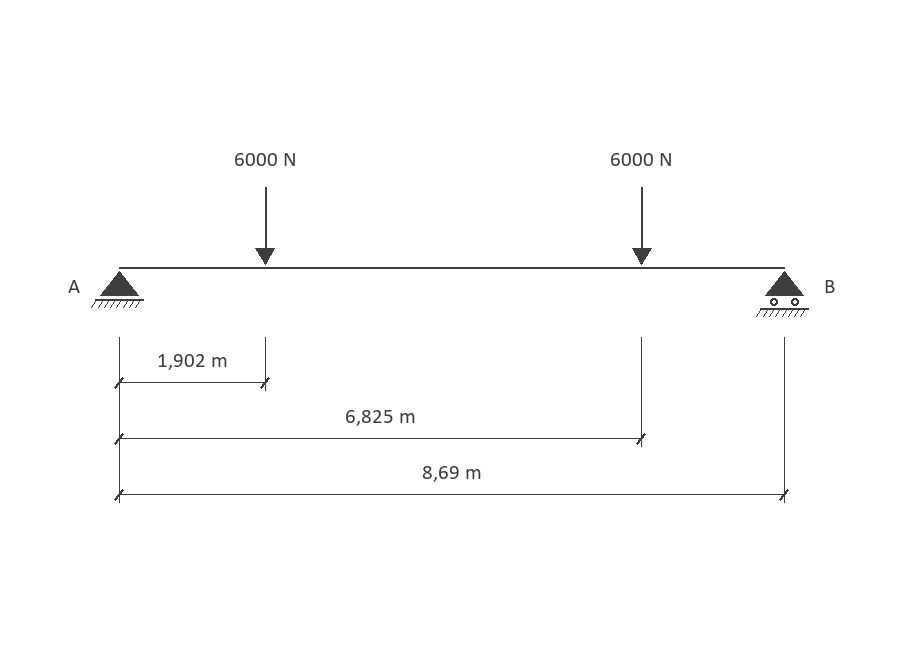pin_support: (91, 271, 144, 308)
point_load: (255, 187, 275, 265), (632, 187, 652, 265)
roller_support: (756, 271, 809, 317)
